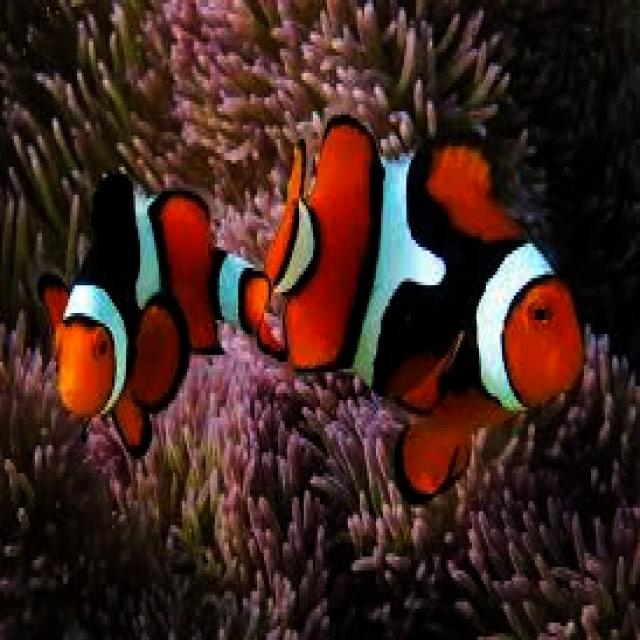ClownFish: (270, 67, 583, 503), (33, 153, 260, 456)
